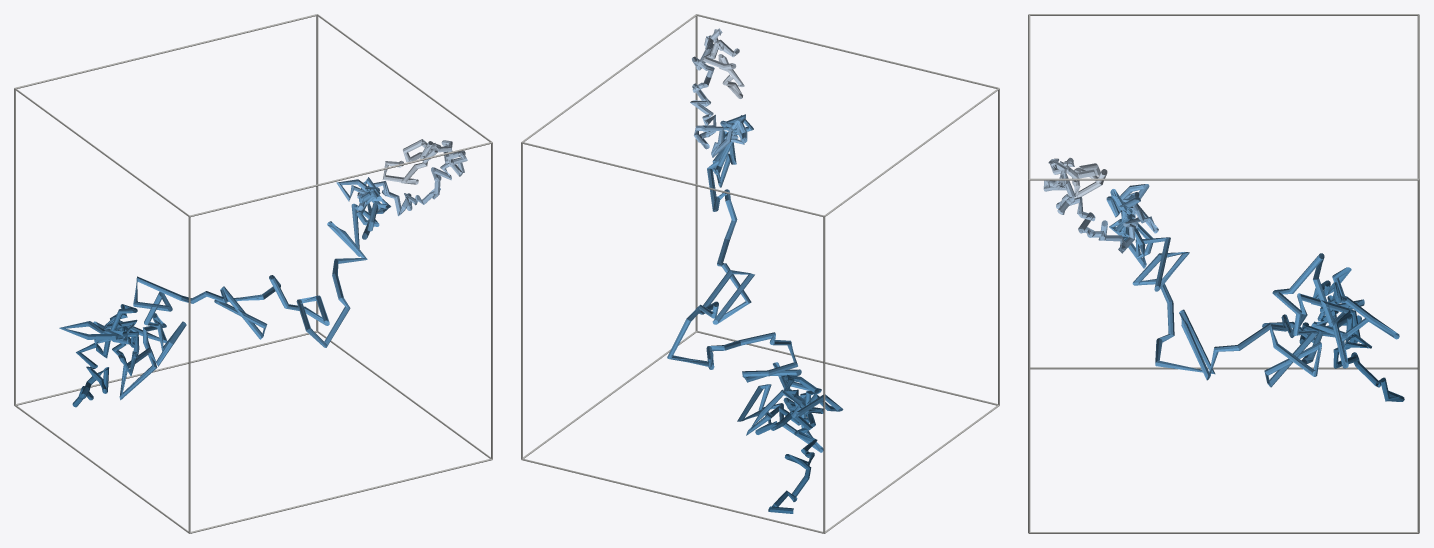
3 views of the same model, side by side, from view 1: azimuth 30°, elevation 25°; view 2: azimuth 150°, elevation 25°; view 3: azimuth 270°, elevation 25° (orthographic). The views are drawn at different scales.
Visible parts, largest first — view 1: geometry_0, geometry_1; view 2: geometry_0, geometry_1; view 3: geometry_0, geometry_1.
Boxes of the visible parts, x1,y1,x2,y2 form: geometry_0: [59, 139, 467, 407]; geometry_1: [14, 14, 492, 533]; geometry_0: [667, 28, 843, 513]; geometry_1: [521, 14, 999, 533]; geometry_0: [1043, 157, 1404, 401]; geometry_1: [1028, 14, 1419, 533].
Size of the model in its own units: 0.3016 by 0.3044 by 0.3016.
